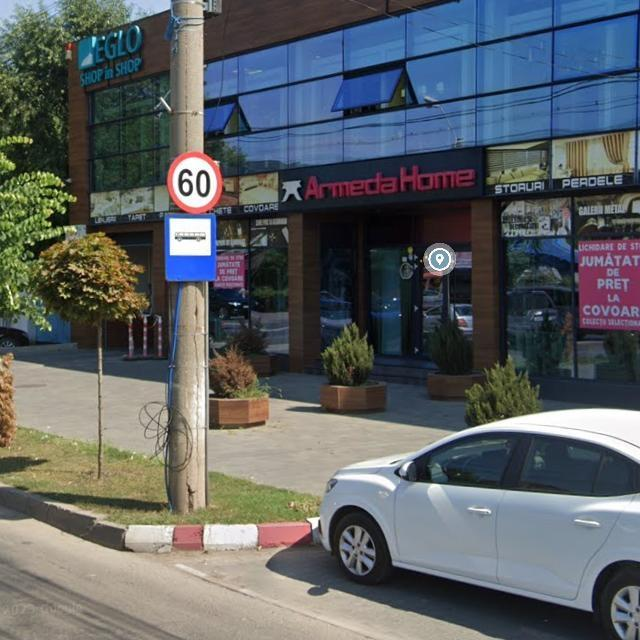forb_speed_over_60: (166, 151, 223, 214)
